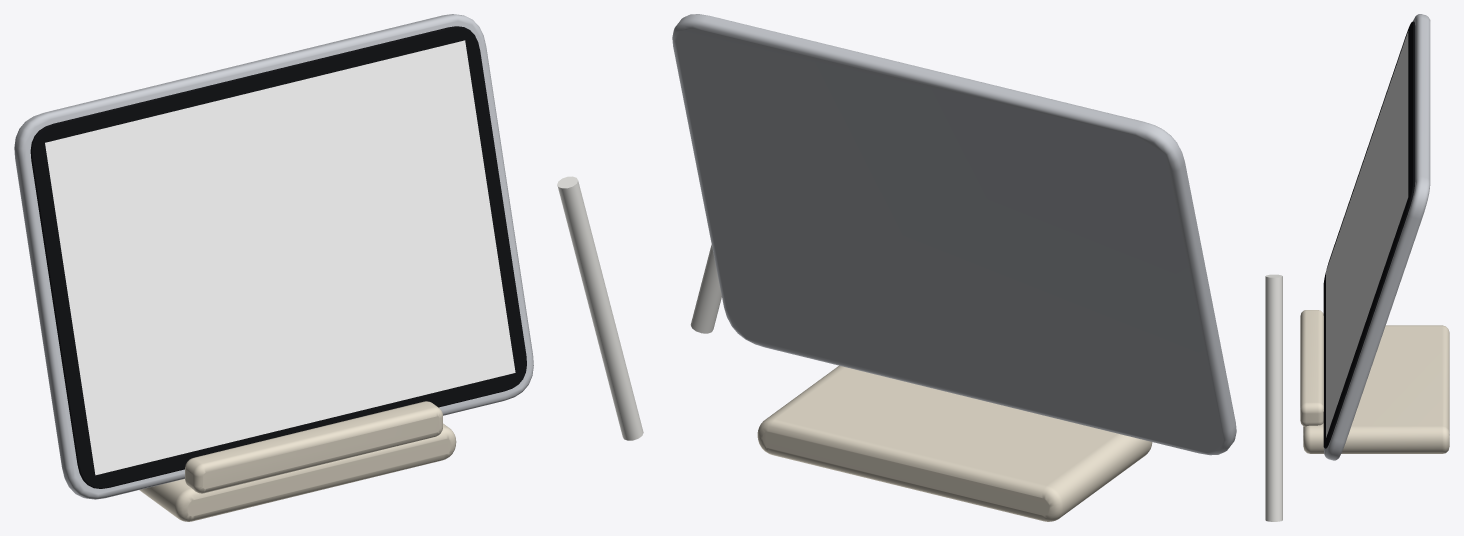
The model's file is tablet.glb.
3 renders of one model, left to right at view 1: azimuth 30°, elevation 25°; view 2: azimuth 150°, elevation 25°; view 3: azimuth 270°, elevation 25°, orthographic. The views are drawn at different scales.
Parts seen in each view (by area): view 1: Screen, Bezel, Stand, Shell, Pencil; view 2: Shell, Stand, Pencil; view 3: Stand, Screen, Shell, Pencil, Bezel.
Part boxes in pixels (x1=…): Screen: x1=45, y1=40, x2=515, y2=475; Bezel: x1=30, y1=26, x2=526, y2=488; Stand: x1=139, y1=401, x2=456, y2=521; Shell: x1=14, y1=14, x2=533, y2=499; Pencil: x1=557, y1=176, x2=643, y2=440; Shell: x1=672, y1=14, x2=1236, y2=455; Stand: x1=757, y1=365, x2=1152, y2=521; Pencil: x1=690, y1=245, x2=721, y2=333; Stand: x1=1300, y1=310, x2=1449, y2=453; Screen: x1=1326, y1=31, x2=1408, y2=437; Shell: x1=1324, y1=14, x2=1430, y2=460; Pencil: x1=1265, y1=274, x2=1282, y2=521; Bezel: x1=1323, y1=21, x2=1415, y2=448.
Bounding box in the file's own units: 0.3458 × 0.2322 × 0.126.
